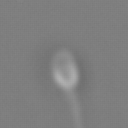normal: (65, 89, 94, 128)
